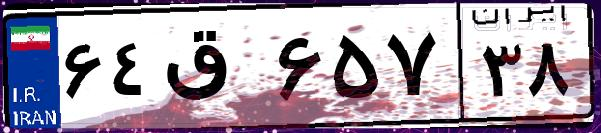3: (475, 38, 525, 113)
4: (110, 28, 158, 98)
5: (330, 28, 385, 110)
6: (270, 28, 330, 110), (57, 26, 110, 100)
7: (385, 28, 445, 110)
8: (525, 38, 570, 115)
ق: (158, 20, 270, 120)
